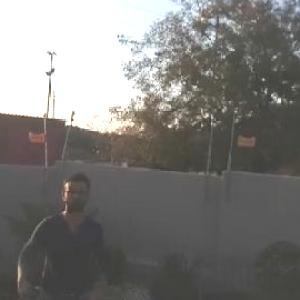follow: (9, 167, 117, 299)
